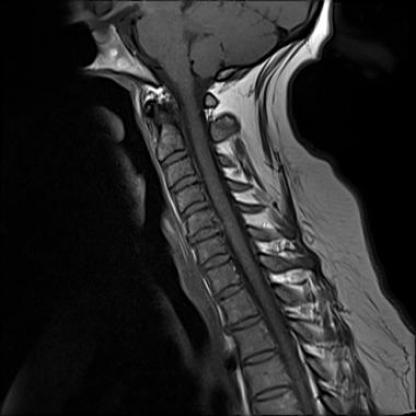Disc Herniationrotation: (186, 226, 225, 244)
Disc Protrusionrotation: (168, 174, 200, 193)
